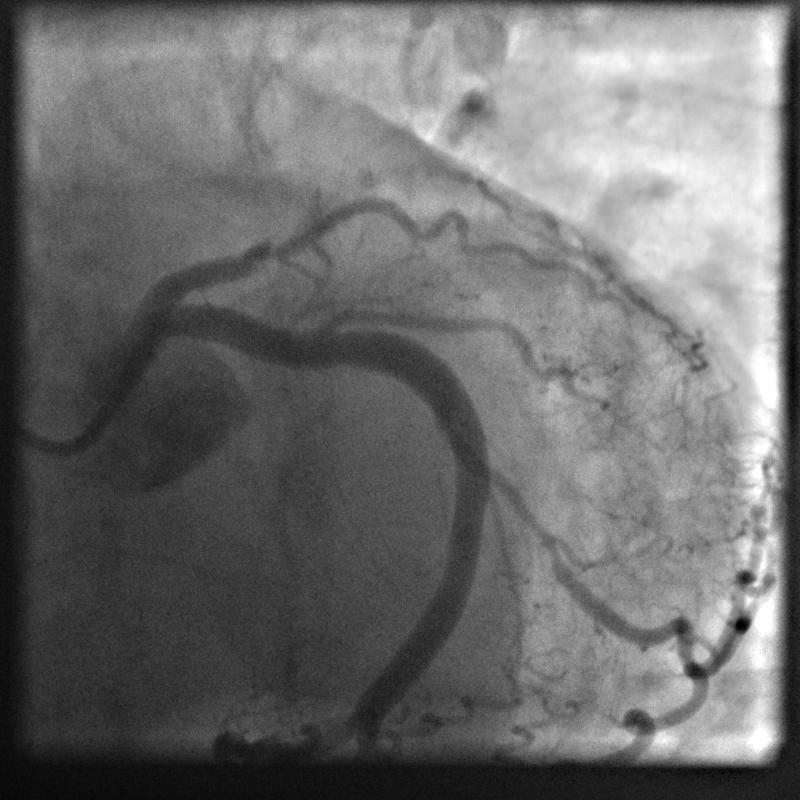Stenosis: (473, 450, 567, 568)
